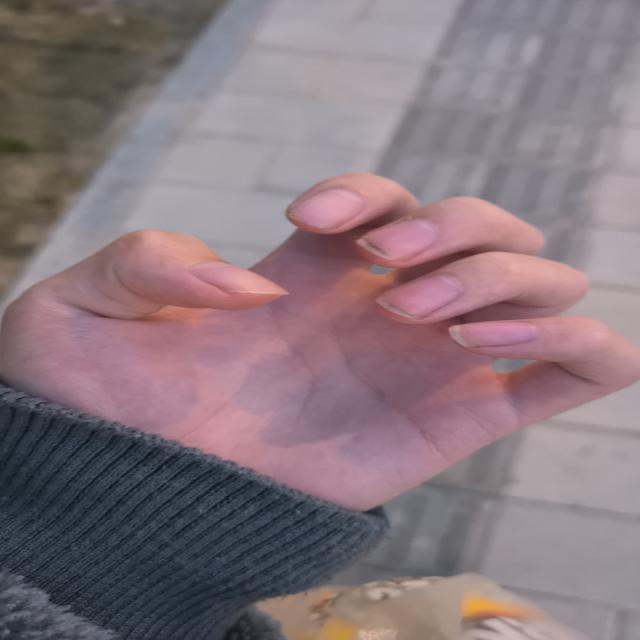Nail: (376, 276, 464, 319), (356, 219, 438, 261), (188, 262, 290, 295), (288, 189, 365, 229), (450, 322, 540, 347)
